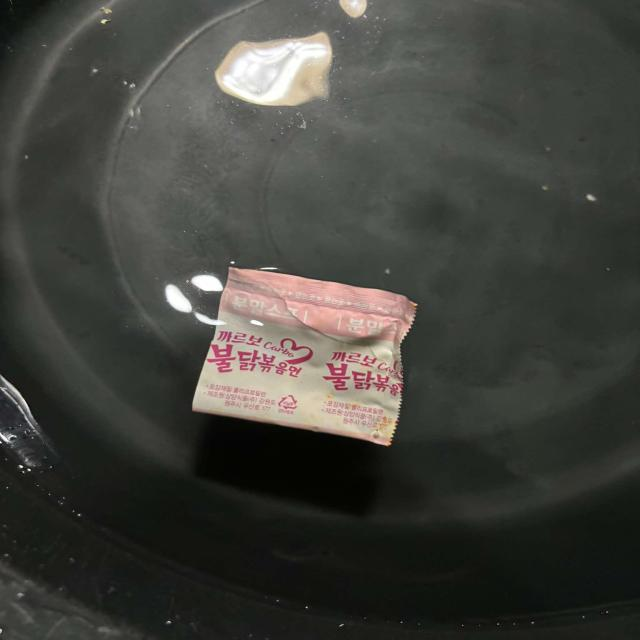Plastic Wrapper: (150, 247, 440, 464)
